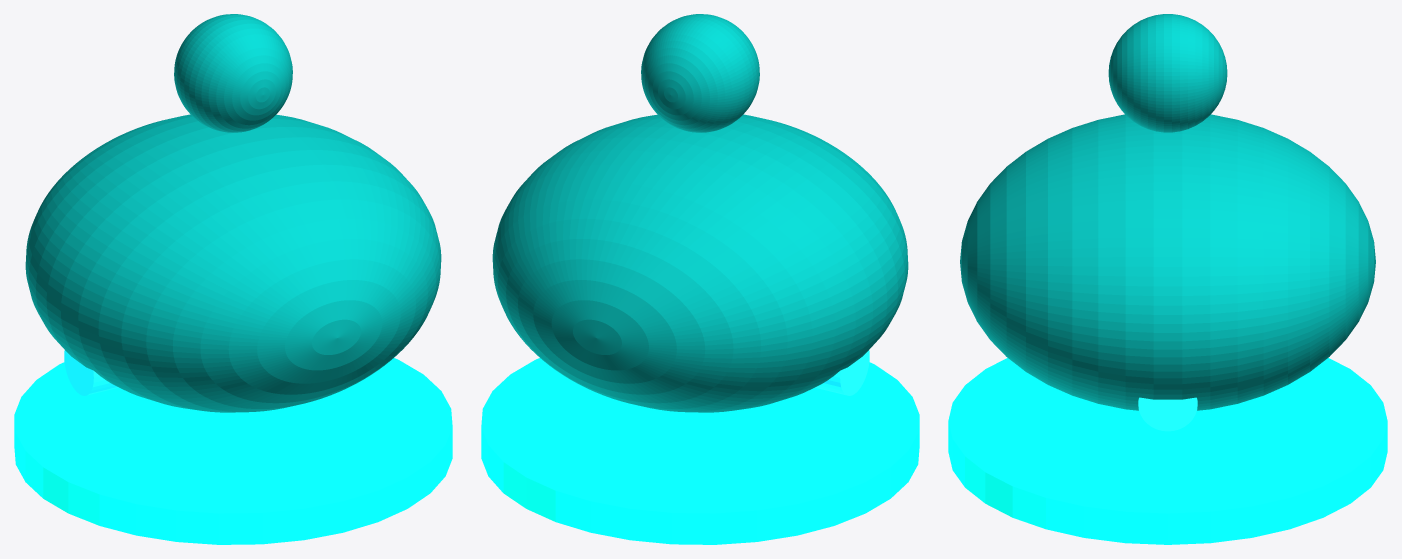
The model's file is fashion_beanie.glb.
The picture shows the model from 3 angles, left to right: view 1: azimuth 30°, elevation 25°; view 2: azimuth 150°, elevation 25°; view 3: azimuth 270°, elevation 25°; orthographic projection.
Visible parts, largest first — view 1: 06_19_Popular_Fashion_Beanie_part_01, 06_19_Popular_Fashion_Beanie_ROOT_base, 06_19_Popular_Fashion_Beanie_part_02, 06_19_Popular_Fashion_Beanie_part_03; view 2: 06_19_Popular_Fashion_Beanie_part_01, 06_19_Popular_Fashion_Beanie_ROOT_base, 06_19_Popular_Fashion_Beanie_part_02, 06_19_Popular_Fashion_Beanie_part_03; view 3: 06_19_Popular_Fashion_Beanie_part_01, 06_19_Popular_Fashion_Beanie_ROOT_base, 06_19_Popular_Fashion_Beanie_part_02, 06_19_Popular_Fashion_Beanie_part_03.
Boxes of the visible parts, left/top/right/bottom form: 06_19_Popular_Fashion_Beanie_part_01: left=25, top=114, right=441, bottom=412; 06_19_Popular_Fashion_Beanie_ROOT_base: left=14, top=358, right=452, bottom=544; 06_19_Popular_Fashion_Beanie_part_02: left=174, top=14, right=292, bottom=132; 06_19_Popular_Fashion_Beanie_part_03: left=64, top=350, right=118, bottom=395; 06_19_Popular_Fashion_Beanie_part_01: left=492, top=114, right=908, bottom=412; 06_19_Popular_Fashion_Beanie_ROOT_base: left=481, top=358, right=919, bottom=544; 06_19_Popular_Fashion_Beanie_part_02: left=641, top=14, right=759, bottom=132; 06_19_Popular_Fashion_Beanie_part_03: left=815, top=350, right=869, bottom=395; 06_19_Popular_Fashion_Beanie_part_01: left=960, top=114, right=1375, bottom=410; 06_19_Popular_Fashion_Beanie_ROOT_base: left=948, top=358, right=1387, bottom=544; 06_19_Popular_Fashion_Beanie_part_02: left=1108, top=14, right=1227, bottom=132; 06_19_Popular_Fashion_Beanie_part_03: left=1138, top=397, right=1197, bottom=431.
Size of the model in its own units: 0.76 by 0.8261 by 0.76.
